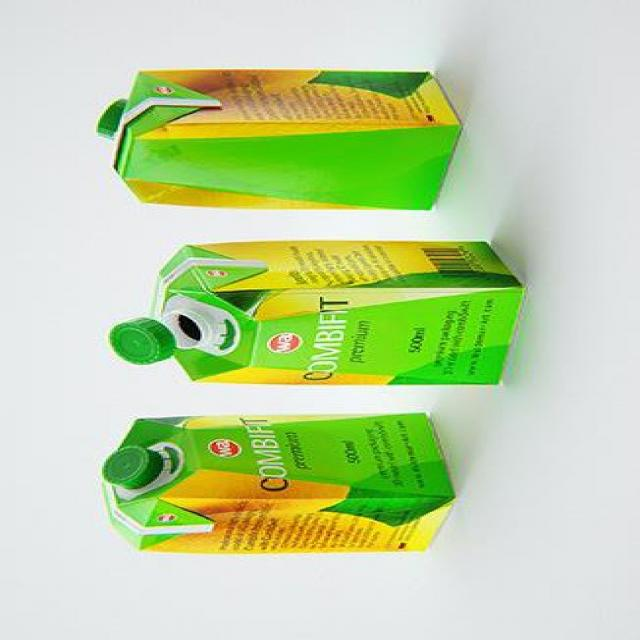non_white_jug: (116, 241, 524, 388), (95, 65, 471, 212), (100, 410, 458, 556)
